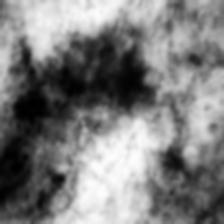Potentially Malignant Skin Tumors: (0, 19, 184, 224)
